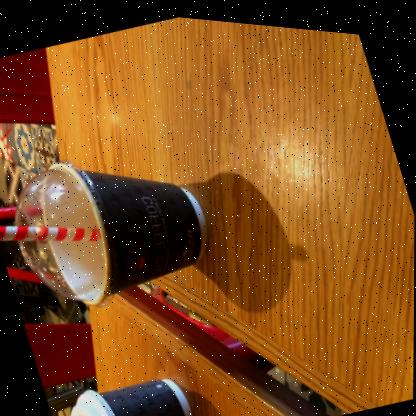Paper: (42, 161, 208, 303), (99, 374, 194, 416), (0, 225, 100, 240)
Plastic: (15, 158, 118, 303), (71, 387, 117, 416)
